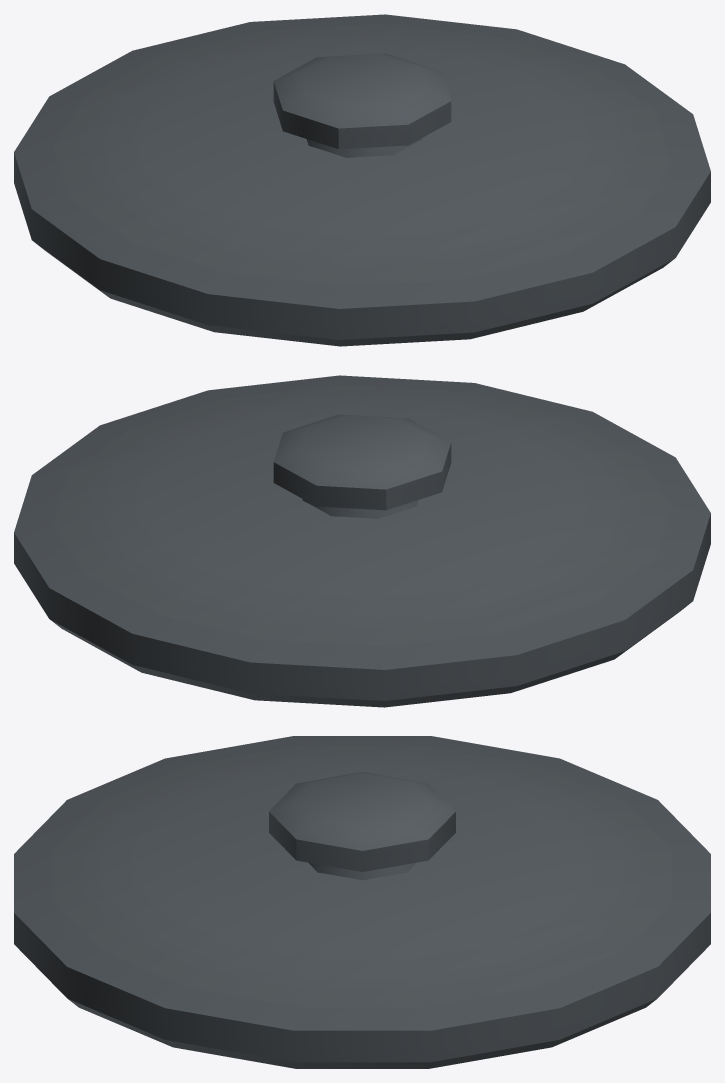
The model's file is kaykit-restaurant-bits-lid-b.glb.
3 renders of one model, top to bottom at view 1: azimuth 30°, elevation 25°; view 2: azimuth 150°, elevation 25°; view 3: azimuth 270°, elevation 25°, orthographic.
Parts seen in each view (by area): view 1: lid_B; view 2: lid_B; view 3: lid_B.
Part boxes in pixels (x1=…): lid_B: x1=14, y1=14, x2=710, y2=346; lid_B: x1=14, y1=375, x2=710, y2=707; lid_B: x1=14, y1=736, x2=710, y2=1068.
Size of the model in its own units: 1 by 0.2003 by 1.
Materials: 1 (1 with a texture image).
